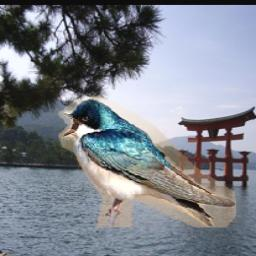Swallow: (58, 96, 236, 227)
